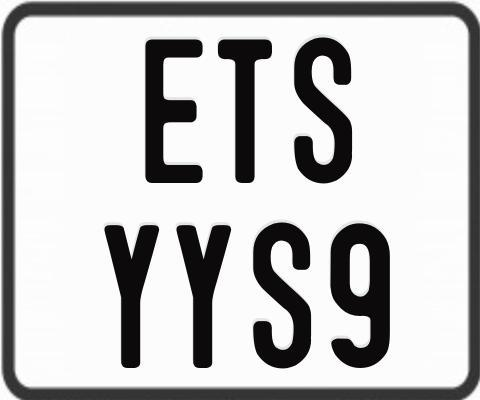9: (329, 221, 394, 368)
E: (142, 39, 200, 189)
S: (291, 34, 351, 182), (253, 221, 312, 369)
T: (217, 39, 276, 186)
Y: (102, 225, 163, 370), (174, 224, 234, 368)
